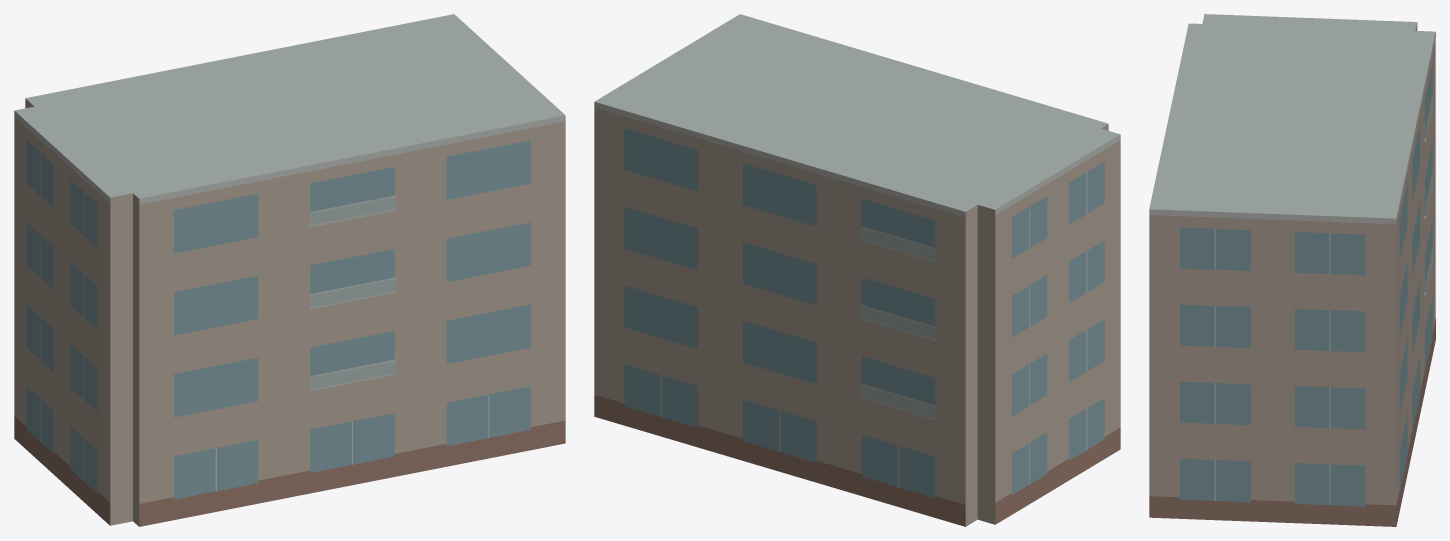
Rendered from survey-upis-32661512.glb.
3 renders of one model, left to right at view 1: azimuth 30°, elevation 25°; view 2: azimuth 150°, elevation 25°; view 3: azimuth 270°, elevation 25°, orthographic. The views are drawn at different scales.
Parts seen in each view (by area): view 1: survey-upis-32661512.tmp; view 2: survey-upis-32661512.tmp; view 3: survey-upis-32661512.tmp.
Boxes of the visible parts, x1=… form: survey-upis-32661512.tmp: x1=14, y1=14, x2=565, y2=526; survey-upis-32661512.tmp: x1=594, y1=14, x2=1120, y2=526; survey-upis-32661512.tmp: x1=1149, y1=14, x2=1435, y2=526.
Size of the model in its own units: 18.79 by 13.2 by 11.13.
